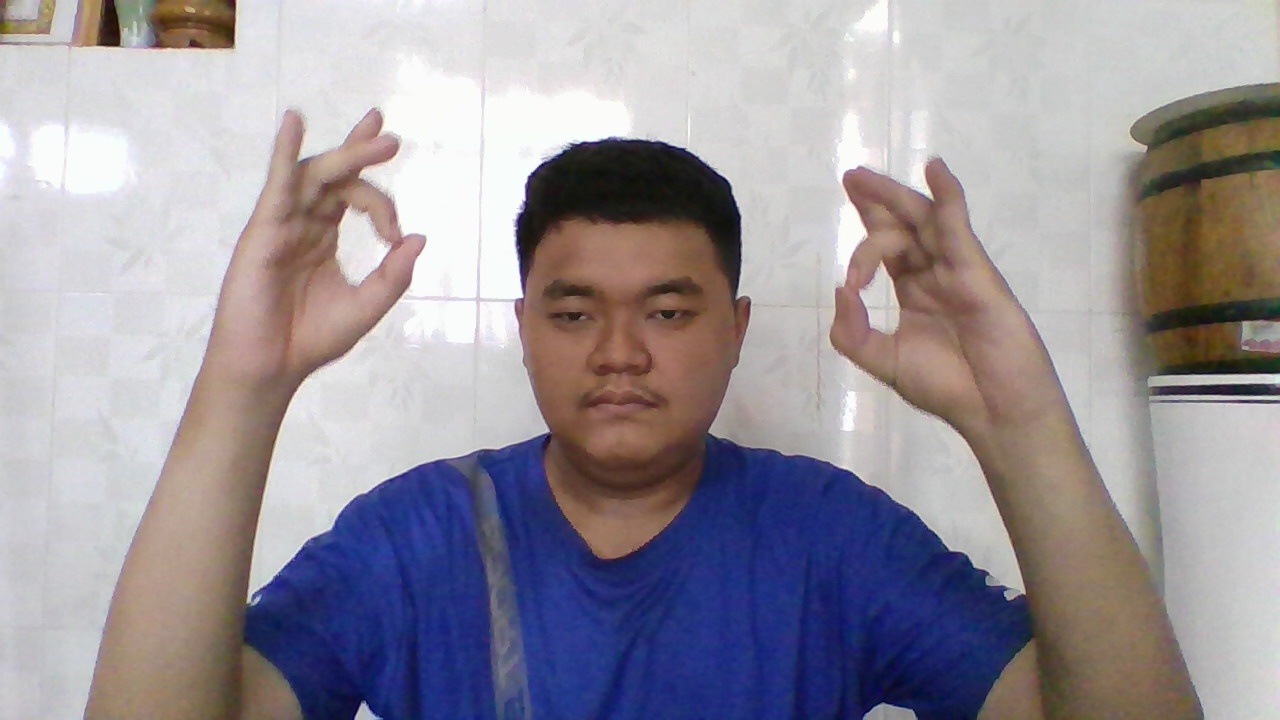H: (825, 149, 1018, 427), (248, 103, 434, 387)
